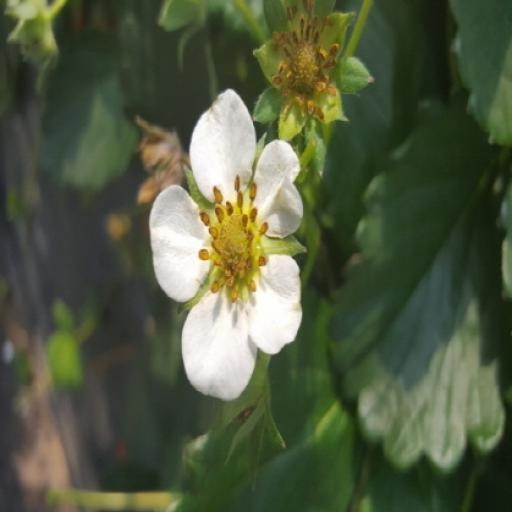Blossom Blight: (237, 172, 317, 310), (168, 0, 246, 125)
